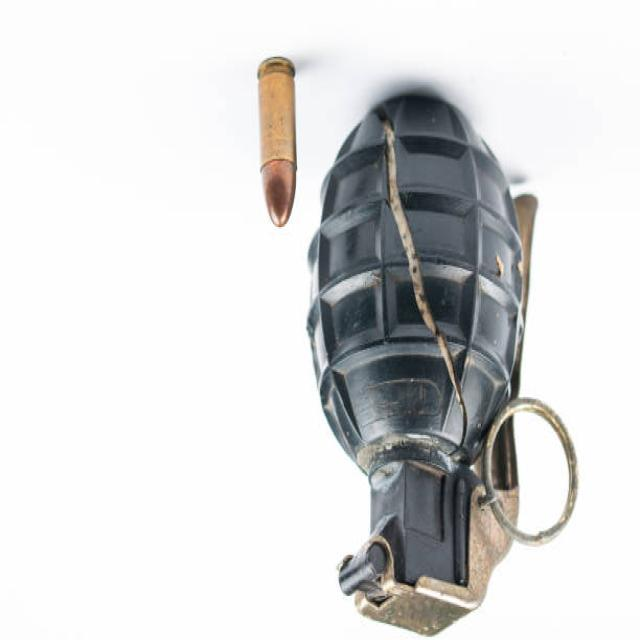grenade: (301, 86, 583, 640)
